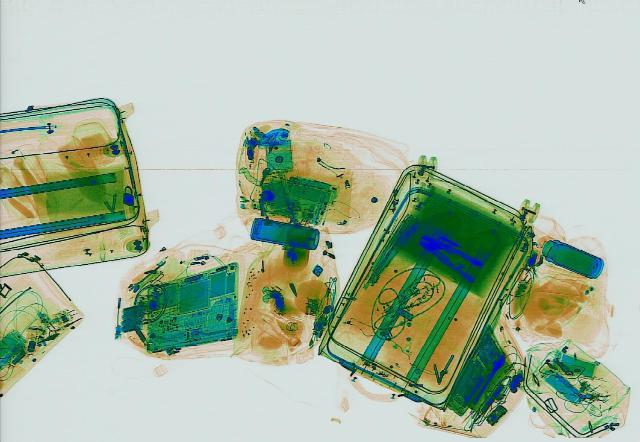Pliers: (409, 228, 493, 282)
Wrench: (468, 351, 509, 403)
